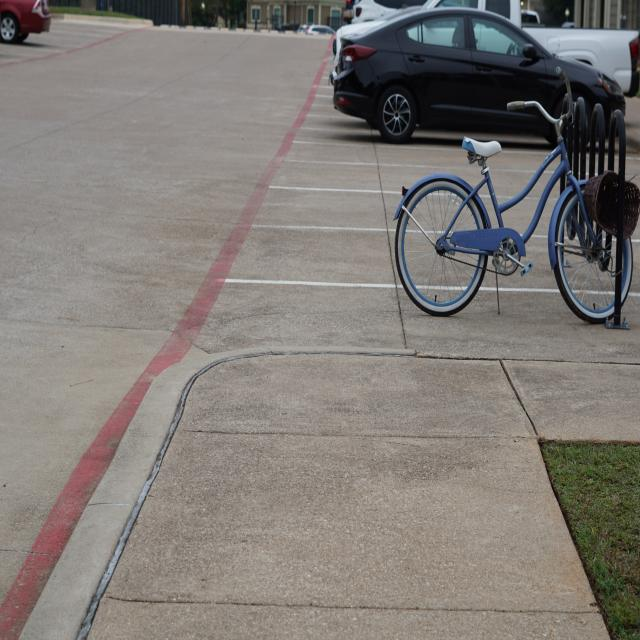Automobile: (316, 0, 640, 143)
Obstacle: (395, 100, 640, 329)
Road: (0, 16, 605, 637)
Sidewalk: (21, 350, 640, 639)
